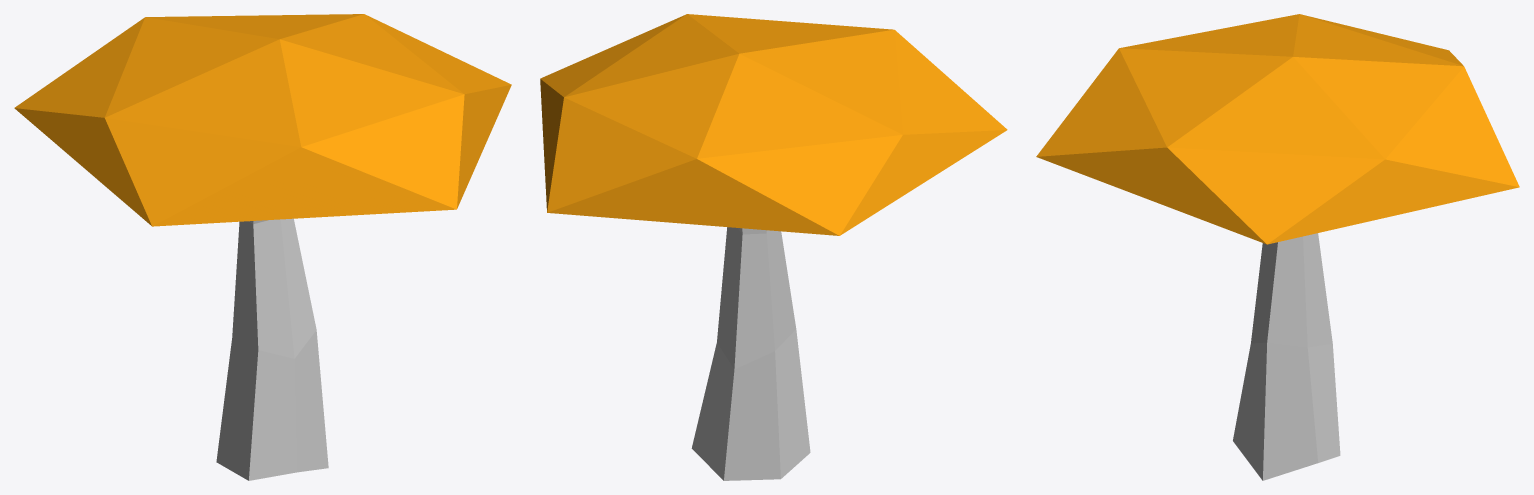
File: mushroom1.glb
3 views of the same model, side by side, from view 1: azimuth 30°, elevation 25°; view 2: azimuth 150°, elevation 25°; view 3: azimuth 270°, elevation 25° (orthographic). The views are drawn at different scales.
Parts seen in each view (by area): view 1: mushroom1; view 2: mushroom1; view 3: mushroom1.
Part boxes in pixels (x1,y1,x2,y2): mushroom1: [14, 14, 511, 480]; mushroom1: [540, 14, 1007, 480]; mushroom1: [1036, 14, 1519, 480].
Size of the model in its own units: 0.4828 by 0.4668 by 0.5009.
